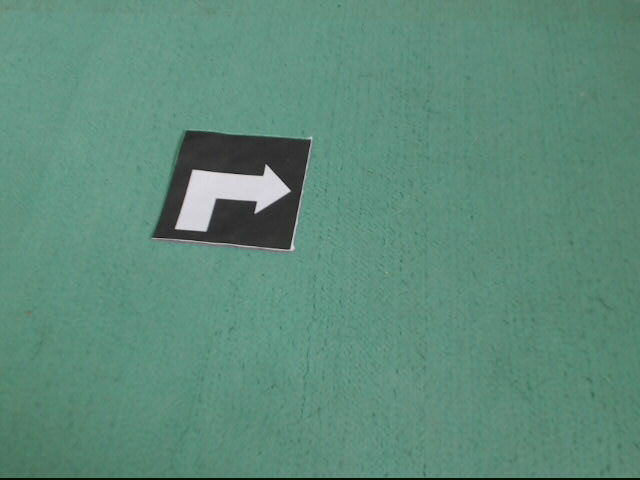right: (152, 130, 313, 252)
